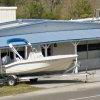Boat: (3, 34, 84, 92)
